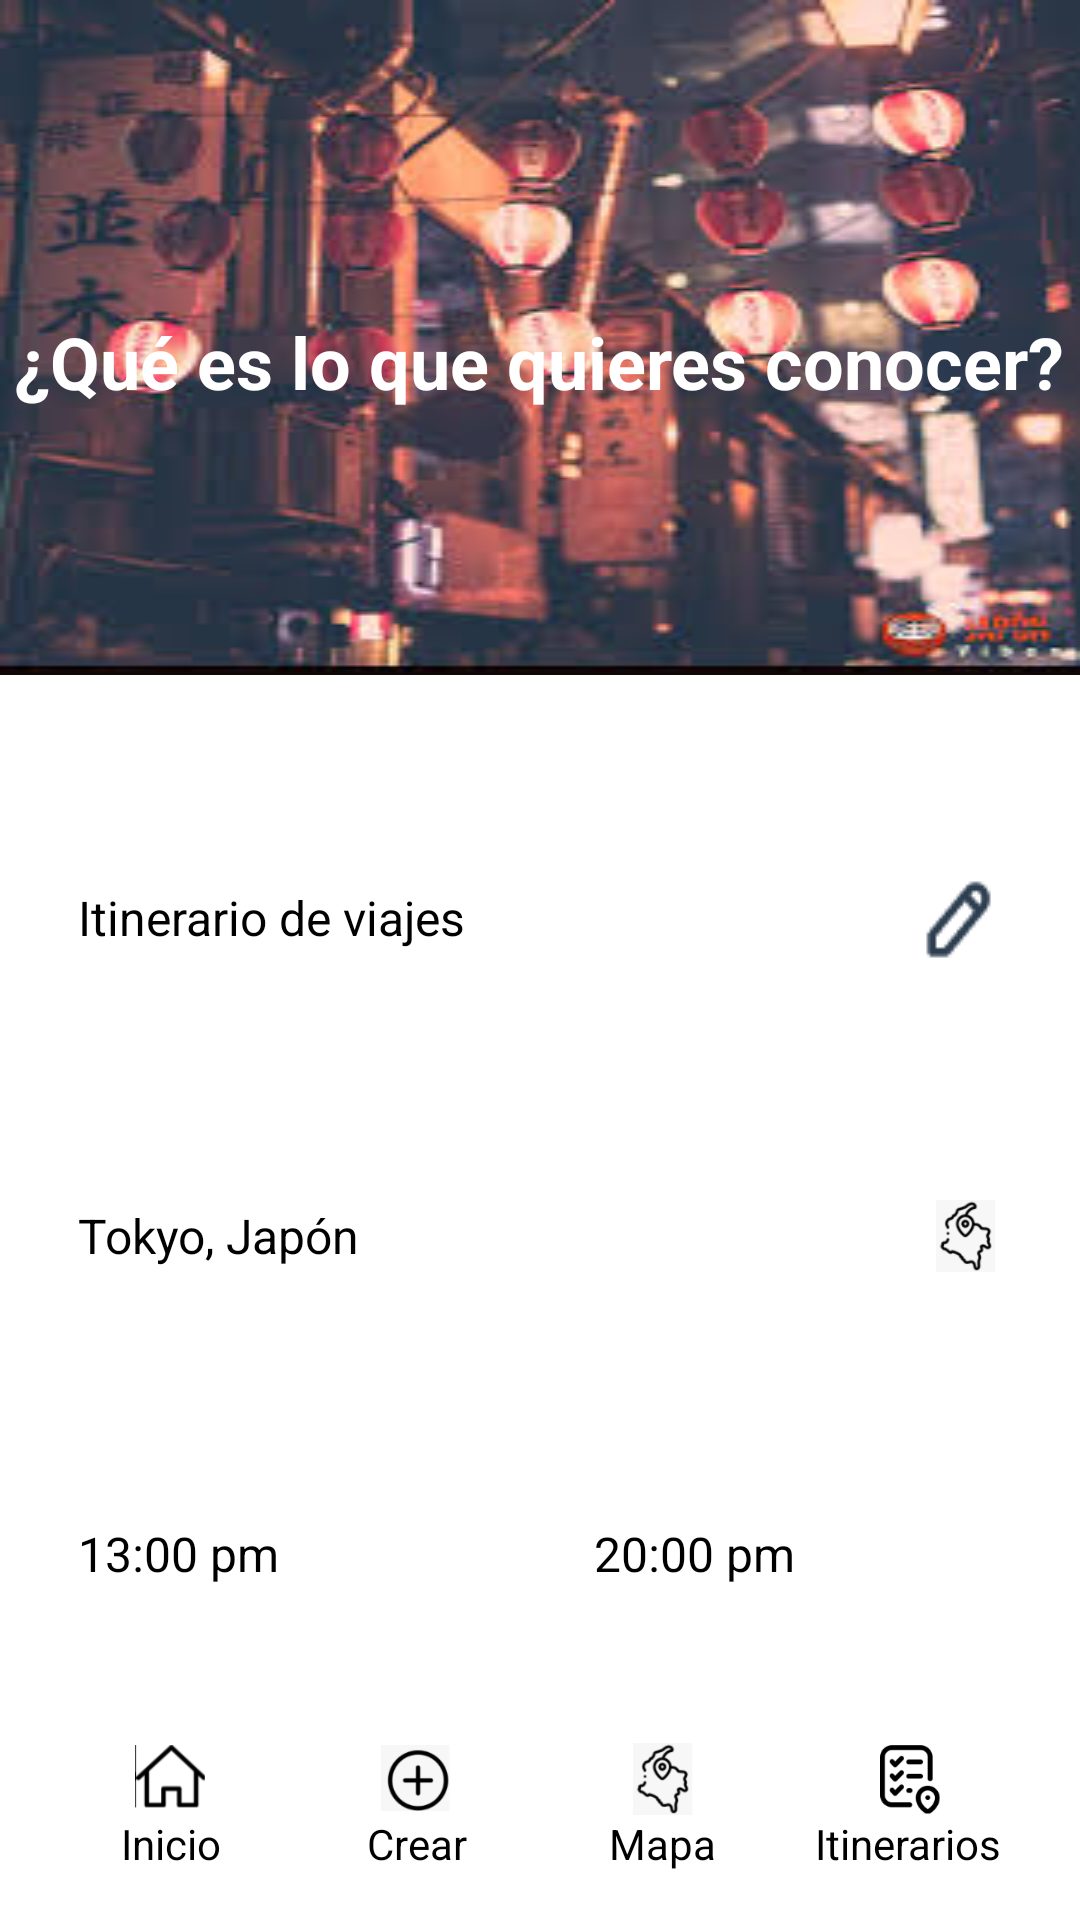

Icon bounding boxes for this 1080*1920 phone screenshot, format (x1=x1, y1=y1, x2=x2, y2=y2):
Editar itinerario: (x1=926, y1=881, x2=991, y2=958)
Ubicación actual: (x1=940, y1=1201, x2=992, y2=1271)
